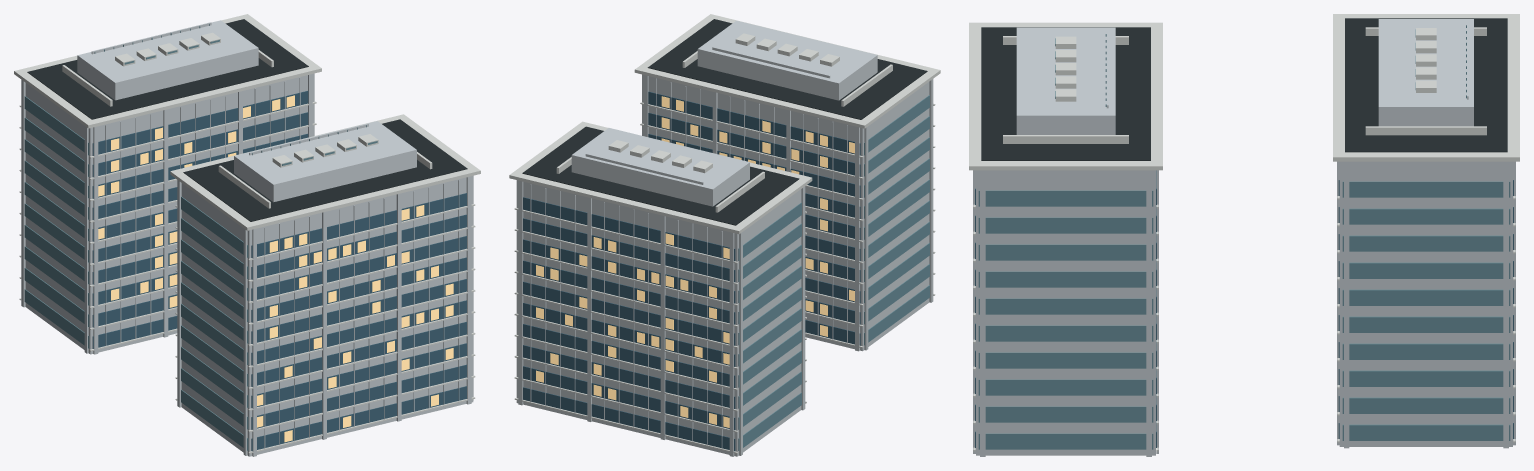
Rendered from children.glb.
3 renders of one model, left to right at view 1: azimuth 30°, elevation 25°; view 2: azimuth 150°, elevation 25°; view 3: azimuth 270°, elevation 25°, orthographic. The views are drawn at different scales.
Visible parts, largest first — view 1: children_ivory, children_glass, children_glassLight, children_roof, children_black, children_ivory_detail, CurrentRefine_children_warmGlass, CurrentRefine_children_roof, CurrentRefine_children_ivory; view 2: children_ivory, children_glass, children_glassLight, children_roof, children_black, children_ivory_detail, CurrentRefine_children_warmGlass, CurrentRefine_children_roof, CurrentRefine_children_ivory; view 3: children_ivory, children_glassLight, children_black, children_roof, CurrentRefine_children_roof, children_glass.
Boxes of the visible parts, x1=… form: children_ivory: x1=21, y1=20, x2=473, y2=456; children_glass: x1=92, y1=91, x2=466, y2=451; children_glassLight: x1=24, y1=96, x2=248, y2=450; children_roof: x1=14, y1=14, x2=480, y2=453; children_black: x1=27, y1=19, x2=467, y2=221; children_ivory_detail: x1=105, y1=78, x2=459, y2=448; CurrentRefine_children_warmGlass: x1=98, y1=95, x2=453, y2=442; CurrentRefine_children_roof: x1=115, y1=32, x2=378, y2=167; CurrentRefine_children_ivory: x1=91, y1=22, x2=368, y2=155; children_ivory: x1=516, y1=20, x2=933, y2=456; children_glass: x1=523, y1=91, x2=860, y2=451; children_glassLight: x1=738, y1=95, x2=929, y2=450; children_roof: x1=509, y1=14, x2=940, y2=453; children_black: x1=522, y1=19, x2=927, y2=225; children_ivory_detail: x1=530, y1=78, x2=847, y2=448; CurrentRefine_children_warmGlass: x1=536, y1=96, x2=854, y2=427; CurrentRefine_children_roof: x1=608, y1=33, x2=839, y2=173; CurrentRefine_children_ivory: x1=585, y1=47, x2=830, y2=184; children_ivory: x1=973, y1=19, x2=1515, y2=456; children_glassLight: x1=978, y1=181, x2=1510, y2=449; children_black: x1=981, y1=18, x2=1507, y2=160; children_roof: x1=969, y1=14, x2=1519, y2=451; CurrentRefine_children_roof: x1=1055, y1=28, x2=1436, y2=101; children_glass: x1=975, y1=170, x2=1513, y2=447.
Size of the model in its own units: 52 by 51 by 79.5.
